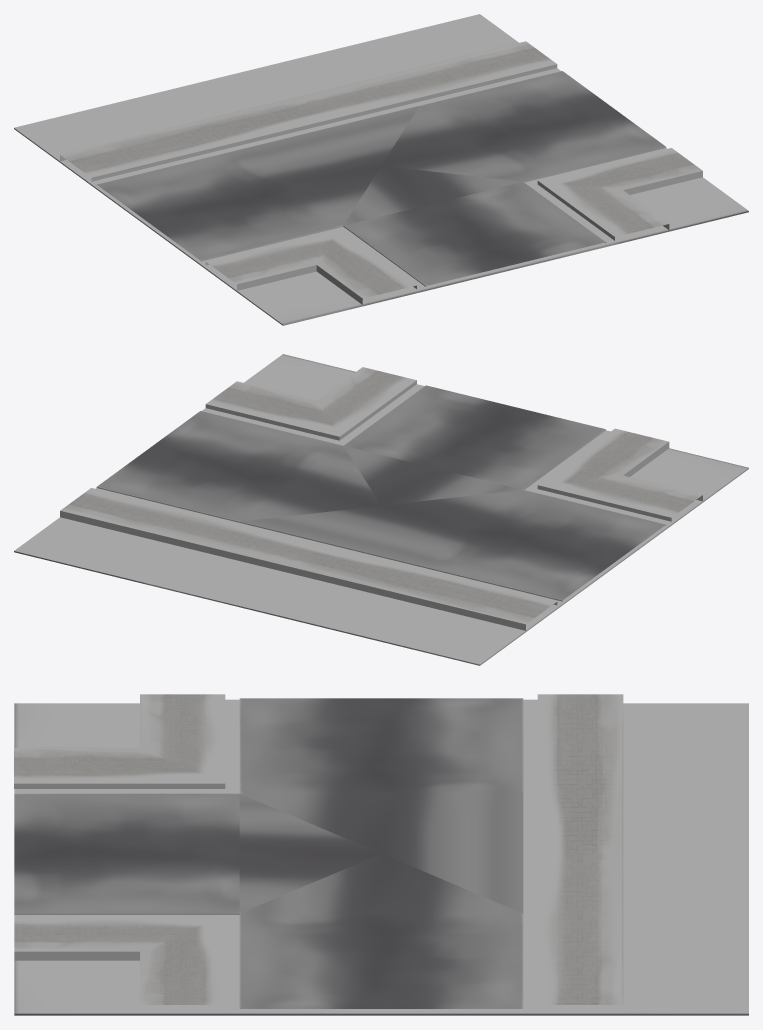
The model's file is Half_Intersection_Flat.fbx.
The picture shows the model from 3 angles, top to bottom: view 1: azimuth 30°, elevation 25°; view 2: azimuth 150°, elevation 25°; view 3: azimuth 270°, elevation 25°; orthographic projection. The views are drawn at different scales.
Visible parts, largest first — view 1: Road_10X33, Road_10X25; view 2: Road_10X33, Road_10X25; view 3: Road_10X33, Road_10X25.
Part boxes in pixels (box(x1,y1,x2,y2)): Road_10X33: box(60, 41, 702, 304); Road_10X25: box(14, 14, 748, 325); Road_10X33: box(60, 367, 702, 630); Road_10X25: box(14, 354, 748, 665); Road_10X33: box(14, 694, 623, 1010); Road_10X25: box(14, 703, 748, 1015).
Size of the model in its own units: 1000 by 16 by 1000.
